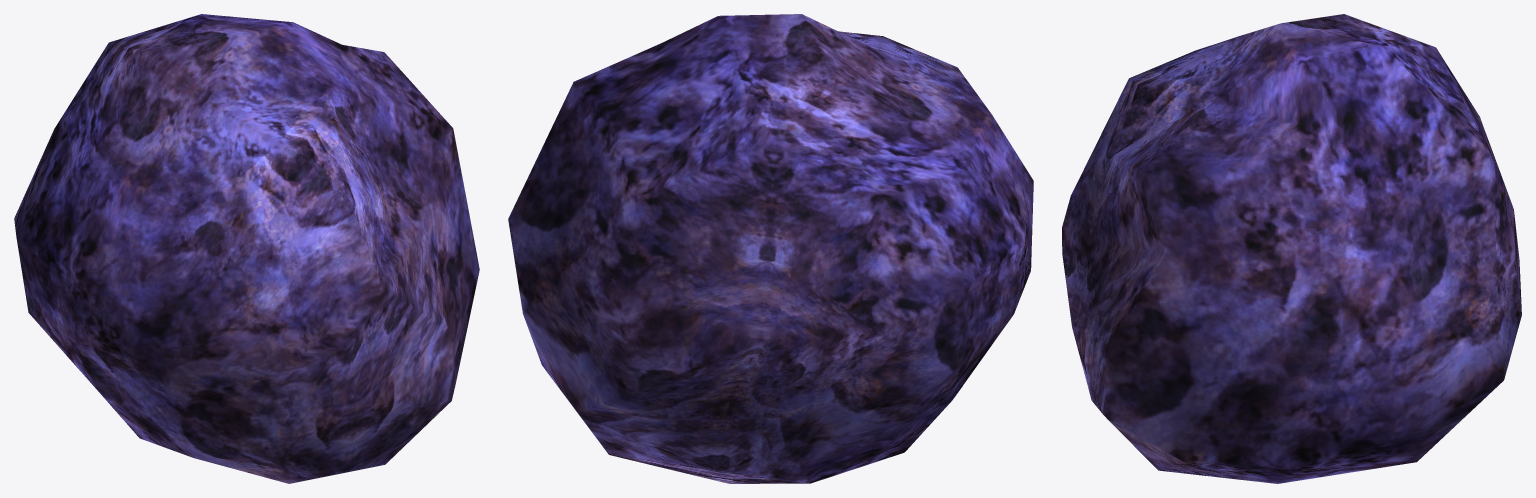
File: stg600_obj_meteoriteC01.obj
3 renders of one model, left to right at view 1: azimuth 30°, elevation 25°; view 2: azimuth 150°, elevation 25°; view 3: azimuth 270°, elevation 25°, orthographic. The views are drawn at different scales.
Parts seen in each view (by area): view 1: polygon0; view 2: polygon0; view 3: polygon0.
Boxes of the visible parts, left/top/right/bottom form: polygon0: left=14, top=14, right=479, bottom=483; polygon0: left=508, top=14, right=1033, bottom=483; polygon0: left=1062, top=14, right=1521, bottom=483.
Bounding box in the file's own units: 48.06 × 46.76 × 45.93.
Materials: 1 (1 with a texture image).
